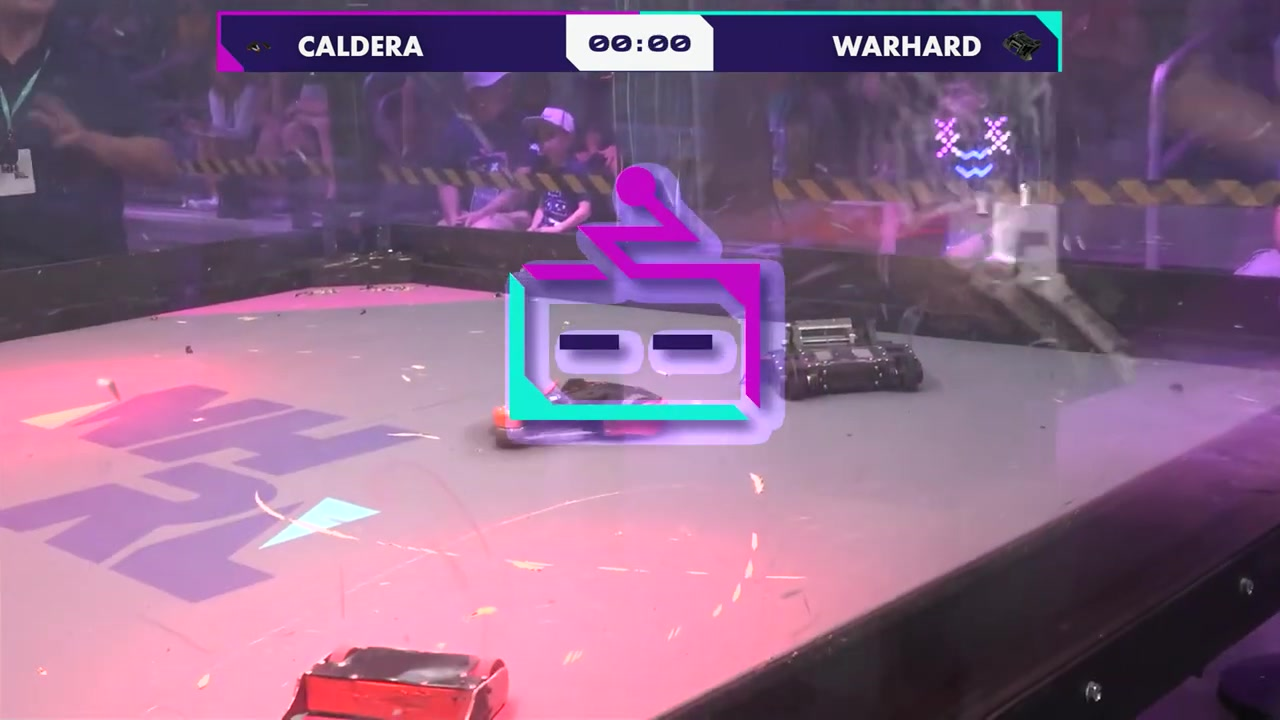combatbot: (774, 317, 926, 405), (489, 378, 660, 446)
minibot: (279, 641, 509, 718)
